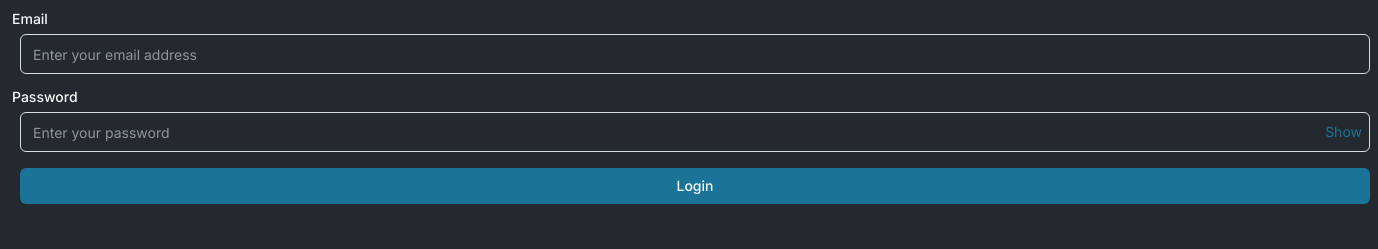
Test: LoginForm › Validation of form inputs › displays validation errors for empty password
Type "test@example.com" into the field with test id "email-input" at coordinates (695, 54), box [20,34,1370,74]
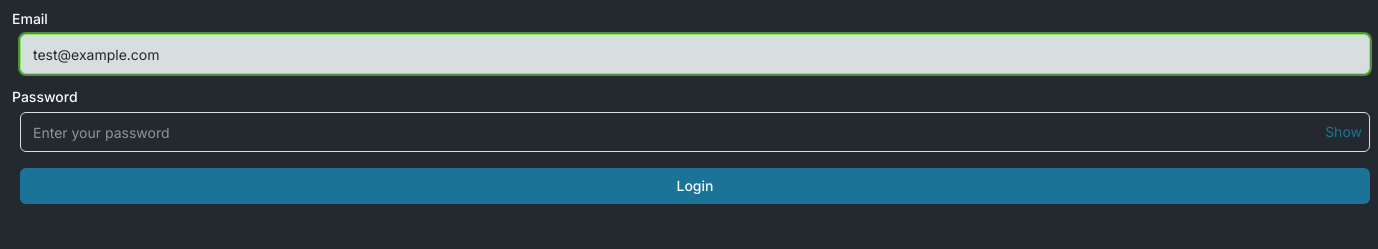
Click the button with test id "login-button" at coordinates (695, 186), box [20,168,1370,204]
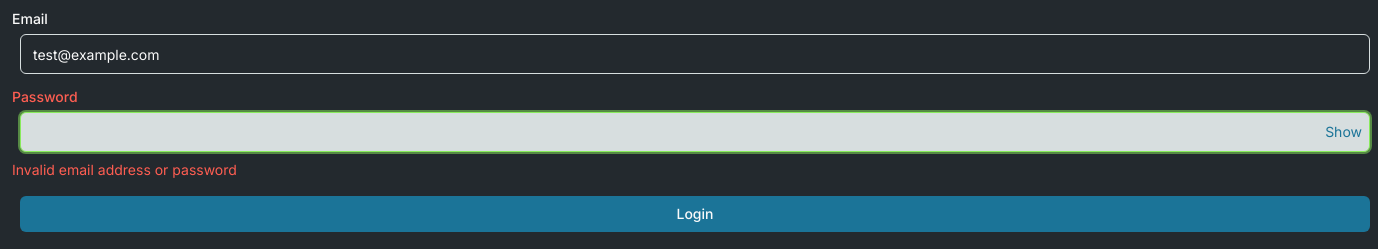
Expected: the text "Invalid email address or password" is shown, [12,161,237,178]
